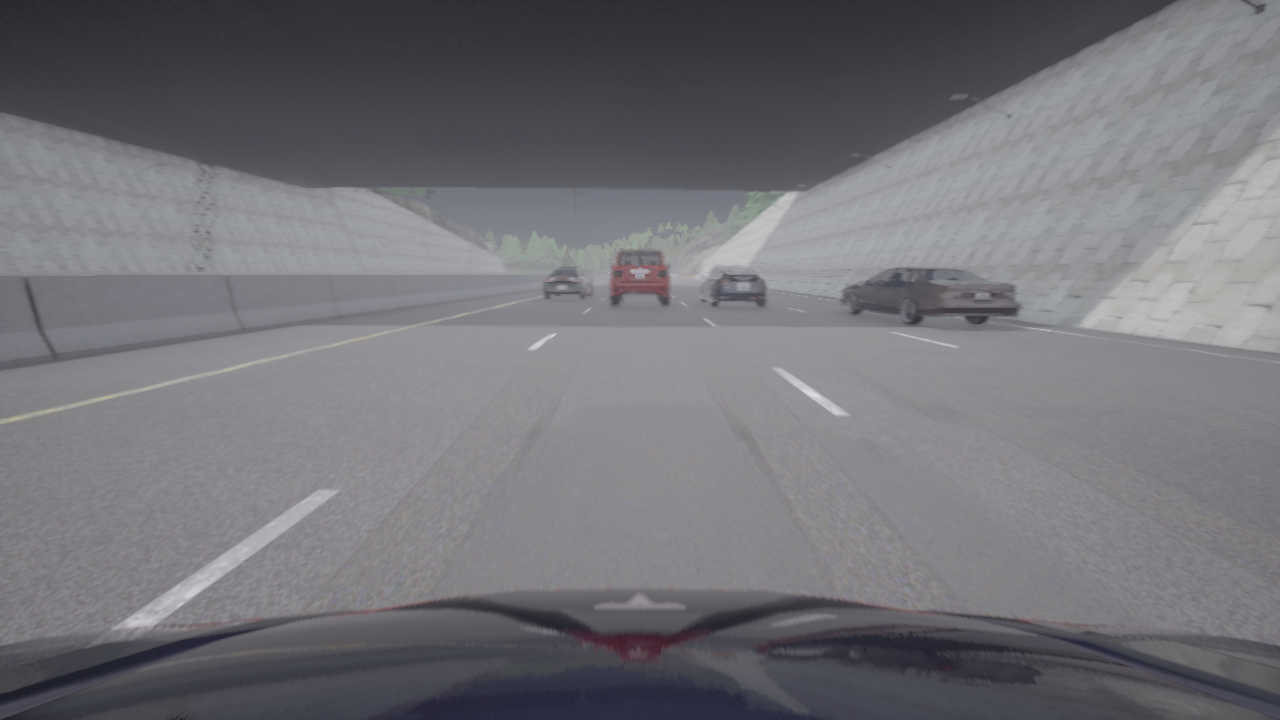cyclist: (0, 588, 1279, 719), (839, 266, 1020, 324), (610, 250, 669, 306), (700, 266, 766, 307), (541, 267, 592, 299)
